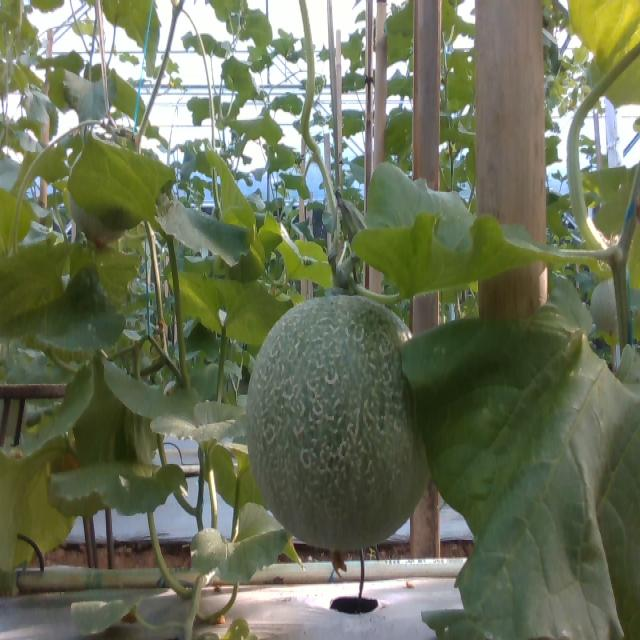melon: (247, 295, 430, 551)
